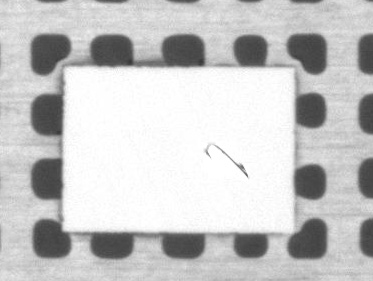DIE_INK: (202, 141, 248, 179)
